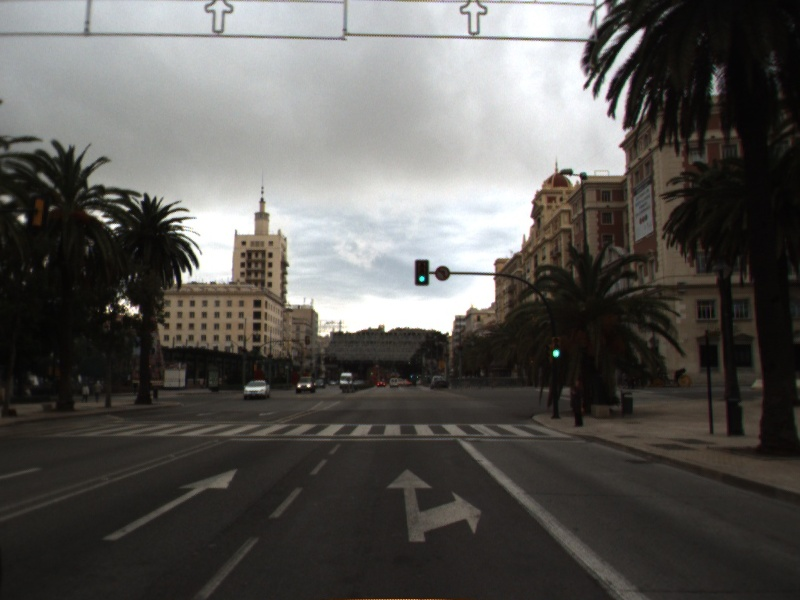STRAIGHT: (100, 467, 239, 543)
STRAIGHT_RIGHT: (384, 467, 484, 544)
